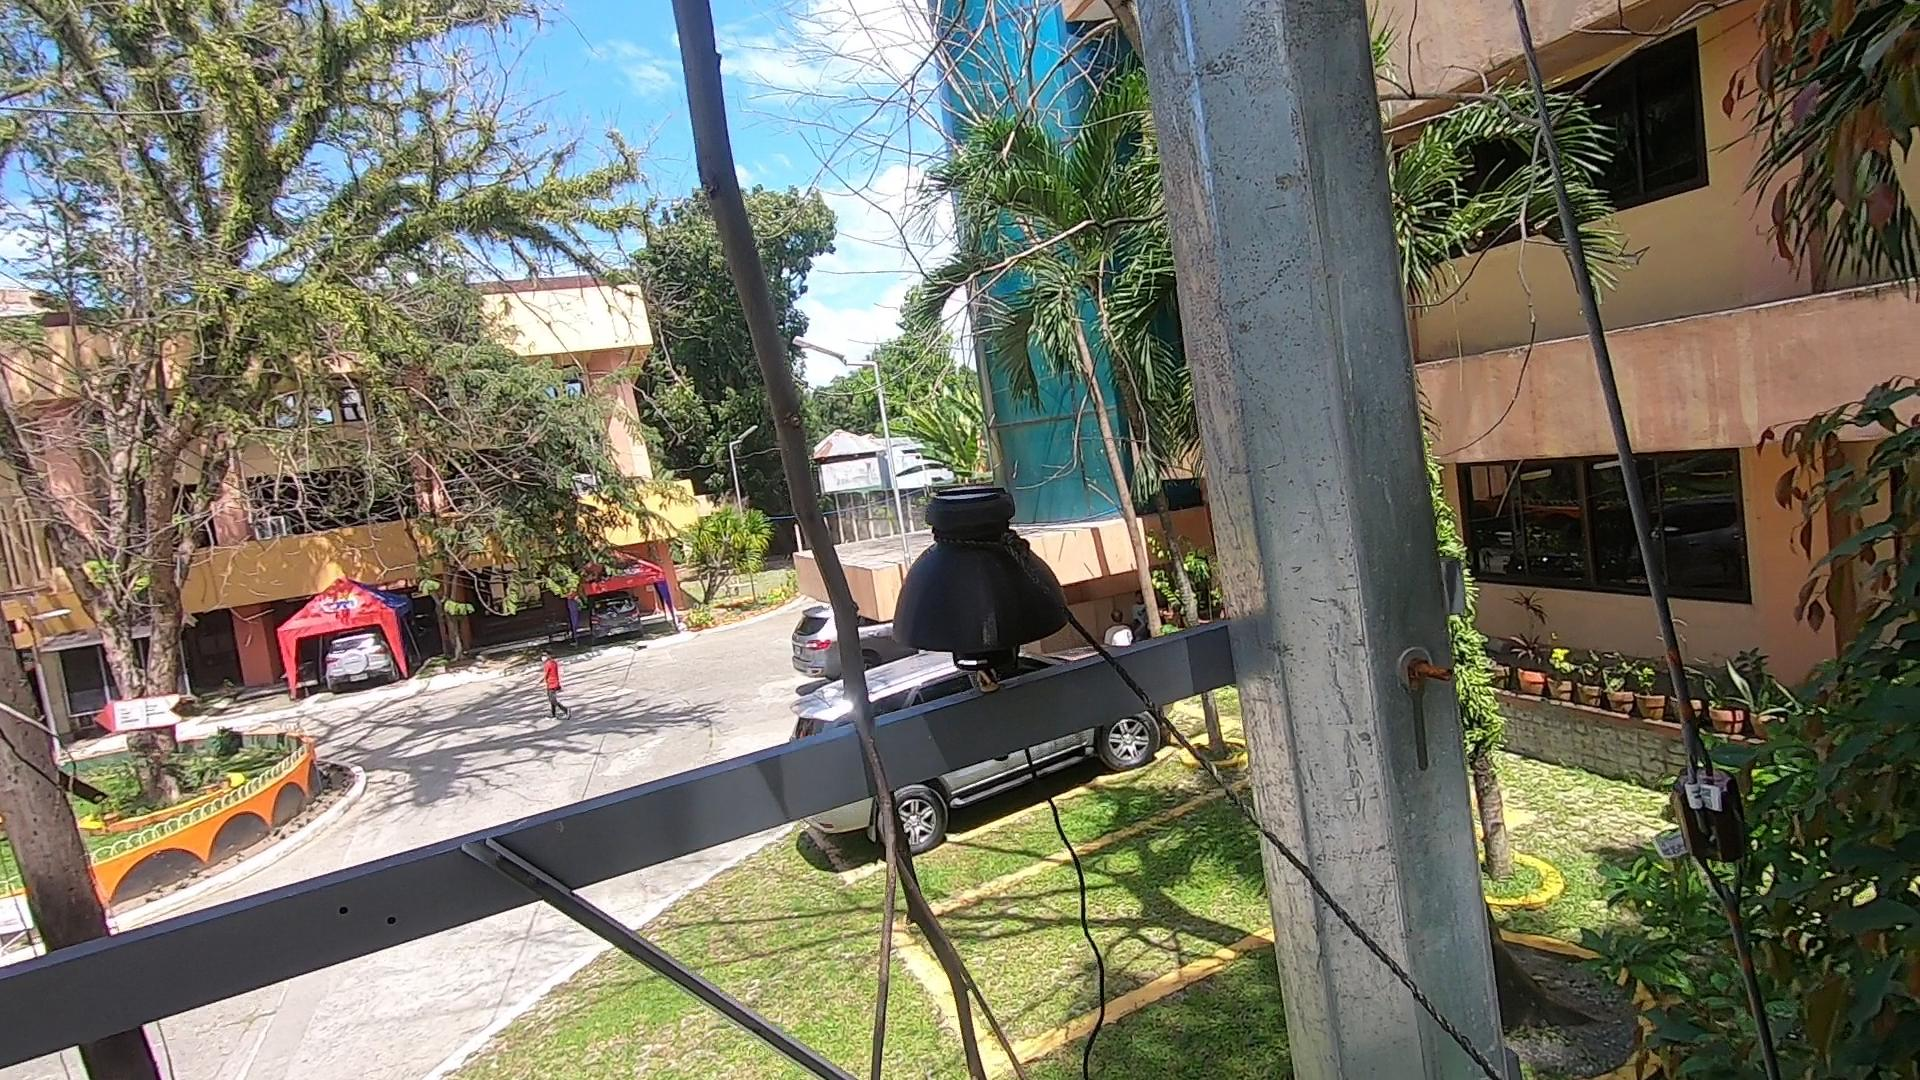tree branch: (633, 7, 1025, 1080)
